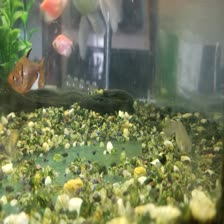Guppy: (161, 109, 193, 155)
Plano: (49, 27, 82, 54)
Transparente: (2, 47, 48, 99)
